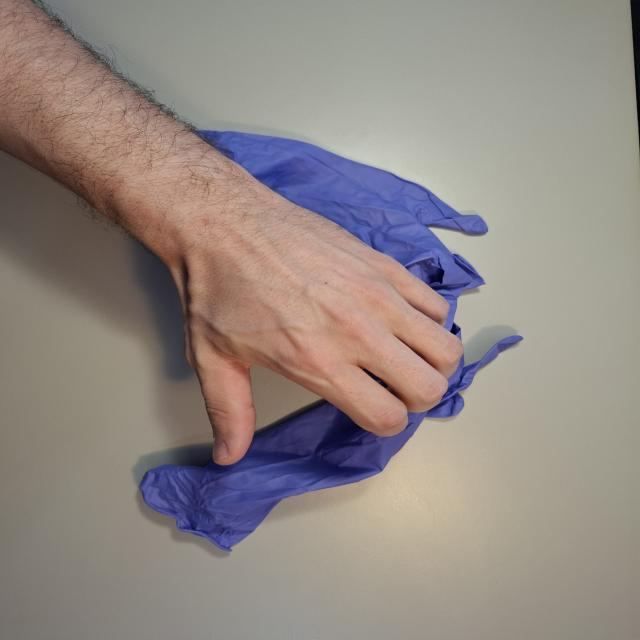glove_off: (162, 202, 468, 468)
